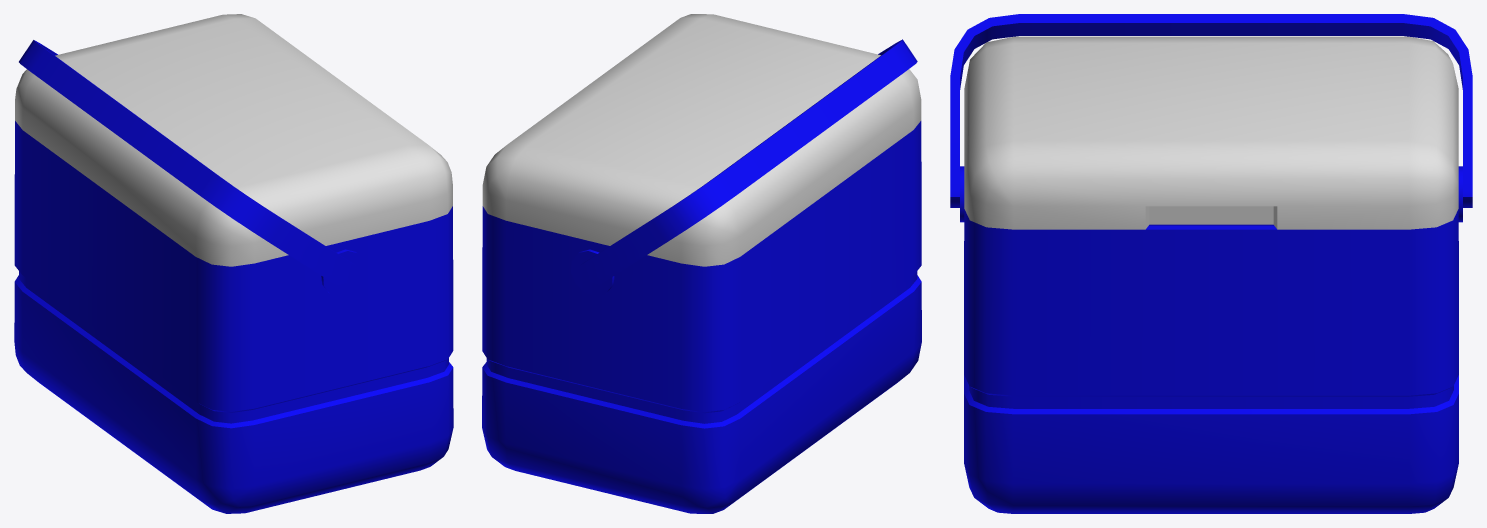
Rendered from Coolingbox2.fbx.
3 views of the same model, side by side, from view 1: azimuth 30°, elevation 25°; view 2: azimuth 150°, elevation 25°; view 3: azimuth 270°, elevation 25° (orthographic). The views are drawn at different scales.
Visible parts, largest first — view 1: SM_CoolingBox_LOD0; view 2: SM_CoolingBox_LOD0; view 3: SM_CoolingBox_LOD0.
Boxes of the visible parts, x1=… form: SM_CoolingBox_LOD0: x1=14, y1=14, x2=453, y2=513; SM_CoolingBox_LOD0: x1=482, y1=14, x2=921, y2=513; SM_CoolingBox_LOD0: x1=950, y1=14, x2=1472, y2=513.
Size of the model in its own units: 15.79 by 20.4 by 24.99.
